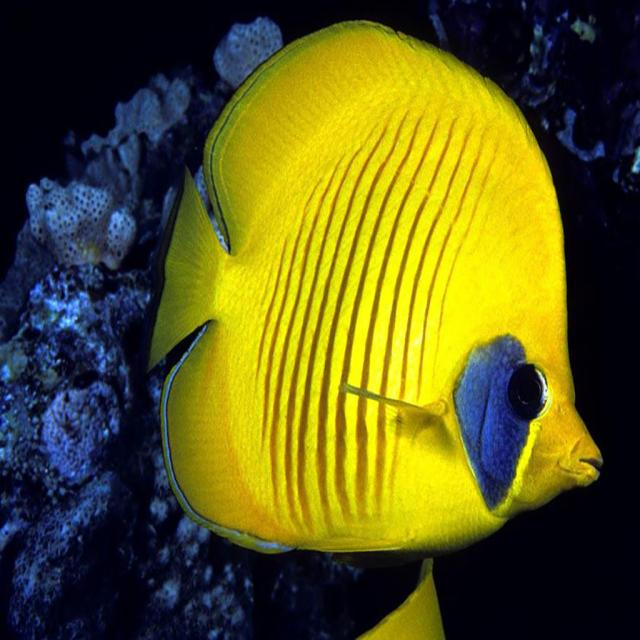ButterflyFish: (154, 22, 604, 546)
